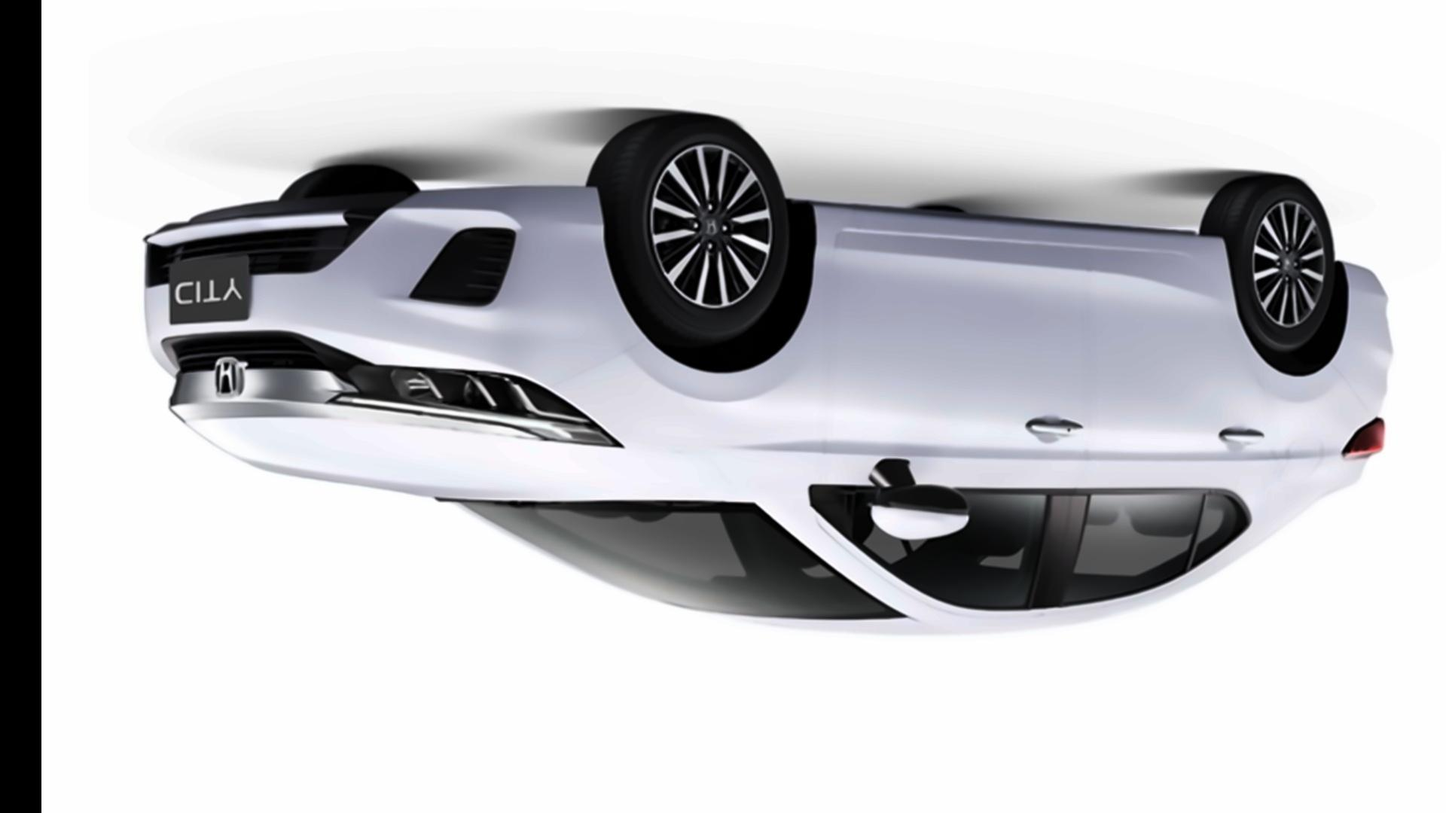Car hood: (166, 408, 657, 509)
Driver-s door - -F-R-: (829, 222, 1071, 634)
Fender - -F-R-: (554, 205, 827, 509)
Fender - -R-R-: (1223, 241, 1345, 515)
Front bumper: (108, 175, 645, 354)
Headlight - -R-: (320, 350, 630, 451)
Passenger-s door - -R-R-: (1072, 233, 1268, 631)
Rear bumper: (1324, 256, 1402, 407)
Rear light - -R-: (1333, 409, 1393, 467)
Side bumper - -R-: (797, 194, 1239, 274)
Side mirror - -R-: (861, 456, 972, 556)
